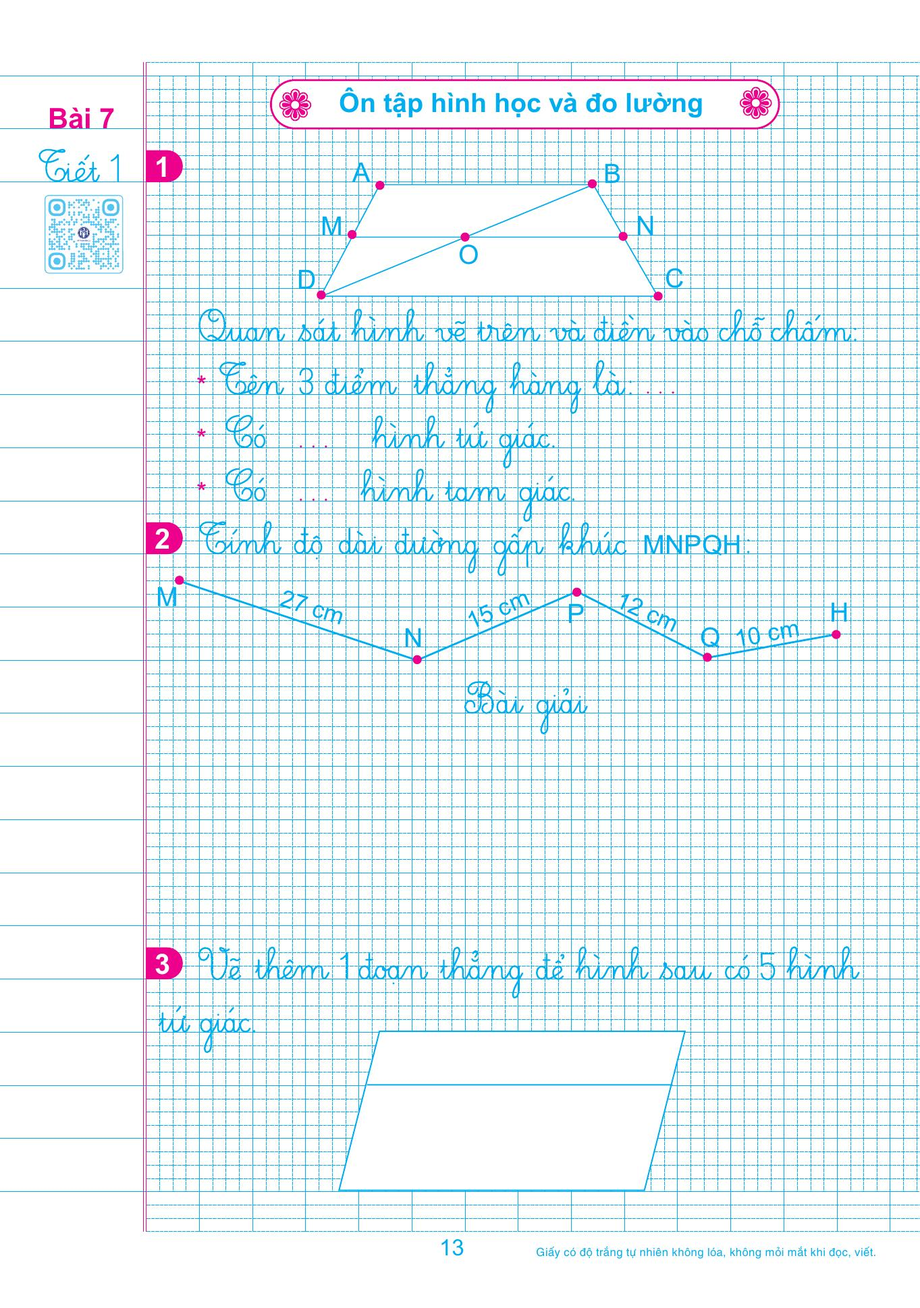None: (139, 932, 920, 1196)
Tự luận: (141, 521, 920, 924)
Điền từ: (143, 127, 920, 521)
